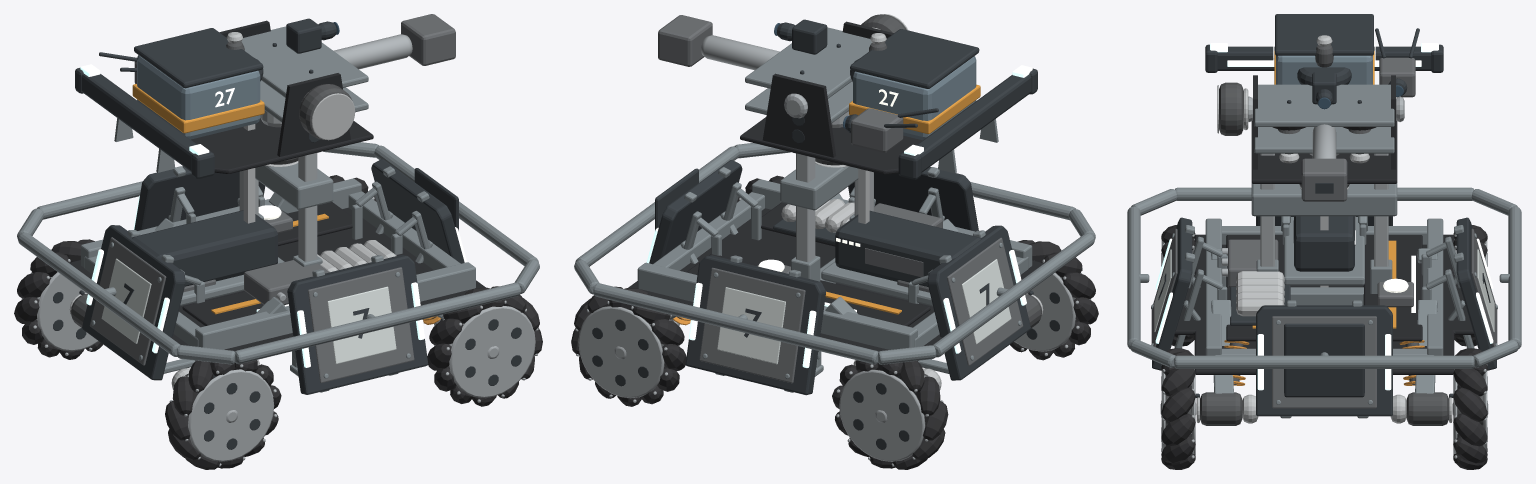
Rendered from robot-2732-spec2027.glb.
3 renders of one model, left to right at view 1: azimuth 30°, elevation 25°; view 2: azimuth 150°, elevation 25°; view 3: azimuth 270°, elevation 25°, orthographic. The views are drawn at different scales.
Visible parts, largest first — view 1: Chassis_RobotMatteAluminum, Chassis_RobotMatteGraphite, Turret_CarbonPlate, Wheel_2_MachinedAlloy, Wheel_0_MachinedAlloy, Chassis_CarbonPlate, ArmorModuleBody.003, GunPitch_RobotMatteAluminum, ArmorHitFace.003, MagazineBox, MagazineLid, Turret_RobotMatteGraphite (+29 smaller); view 2: Chassis_RobotMatteAluminum, Chassis_RobotMatteGraphite, Turret_CarbonPlate, Chassis_CarbonPlate, Wheel_1_MachinedAlloy, Wheel_3_MachinedAlloy, GunPitch_RobotMatteAluminum, ArmorModuleBody.001, Turret_RobotMatteGraphite, ArmorHitFace.001, MagazineLid, MagazineBox (+29 smaller); view 3: Chassis_RobotMatteAluminum, Chassis_RobotMatteGraphite, GunPitch_RobotMatteAluminum, Chassis_CarbonPlate, ArmorModuleBody, LiftCarriage, MagazineLid, Turret_CarbonPlate, ArmorHitFace, Wheel_2_PolyurethaneRoller, Wheel_3_PolyurethaneRoller, Chassis_MotorHousing (+30 smaller).
Boxes of the visible parts, left/top/right/bottom form: Chassis_RobotMatteAluminum: left=17, top=142, right=539, bottom=364; Chassis_RobotMatteGraphite: left=79, top=168, right=458, bottom=294; Turret_CarbonPlate: left=191, top=20, right=373, bottom=173; Wheel_2_MachinedAlloy: left=434, top=300, right=538, bottom=402; Wheel_0_MachinedAlloy: left=169, top=364, right=277, bottom=466; Chassis_CarbonPlate: left=69, top=202, right=485, bottom=360; ArmorModuleBody.003: left=287, top=255, right=428, bottom=394; GunPitch_RobotMatteAluminum: left=241, top=26, right=368, bottom=122; ArmorHitFace.003: left=308, top=267, right=414, bottom=382; MagazineBox: left=137, top=55, right=260, bottom=139; MagazineLid: left=134, top=28, right=263, bottom=88; Turret_RobotMatteGraphite: left=75, top=52, right=319, bottom=178; Chassis_RobotMatteAluminum: left=574, top=143, right=1095, bottom=364; Chassis_RobotMatteGraphite: left=655, top=168, right=1033, bottom=295; Turret_CarbonPlate: left=740, top=21, right=922, bottom=174; Chassis_CarbonPlate: left=628, top=202, right=1043, bottom=361; Wheel_1_MachinedAlloy: left=836, top=364, right=943, bottom=466; Wheel_3_MachinedAlloy: left=575, top=301, right=679, bottom=402; GunPitch_RobotMatteAluminum: left=745, top=27, right=871, bottom=123; ArmorModuleBody.001: left=685, top=255, right=825, bottom=395; Turret_RobotMatteGraphite: left=792, top=68, right=1037, bottom=179; ArmorHitFace.001: left=699, top=267, right=805, bottom=383; MagazineLid: left=850, top=29, right=979, bottom=88; MagazineBox: left=853, top=56, right=976, bottom=140; Chassis_RobotMatteAluminum: left=1127, top=187, right=1521, bottom=393; Chassis_RobotMatteGraphite: left=1195, top=216, right=1453, bottom=397; GunPitch_RobotMatteAluminum: left=1254, top=84, right=1394, bottom=153; Chassis_CarbonPlate: left=1174, top=234, right=1474, bottom=374; ArmorModuleBody: left=1256, top=305, right=1392, bottom=416; LiftCarriage: left=1251, top=183, right=1397, bottom=216; MagazineLid: left=1275, top=14, right=1373, bottom=55; Turret_CarbonPlate: left=1251, top=75, right=1397, bottom=183; ArmorHitFace: left=1272, top=316, right=1376, bottom=408; Wheel_2_PolyurethaneRoller: left=1161, top=348, right=1195, bottom=469; Wheel_3_PolyurethaneRoller: left=1453, top=348, right=1487, bottom=469; Chassis_MotorHousing: left=1200, top=342, right=1448, bottom=425.
Size of the model in its own units: 0.5105 by 0.4706 by 0.4865.
